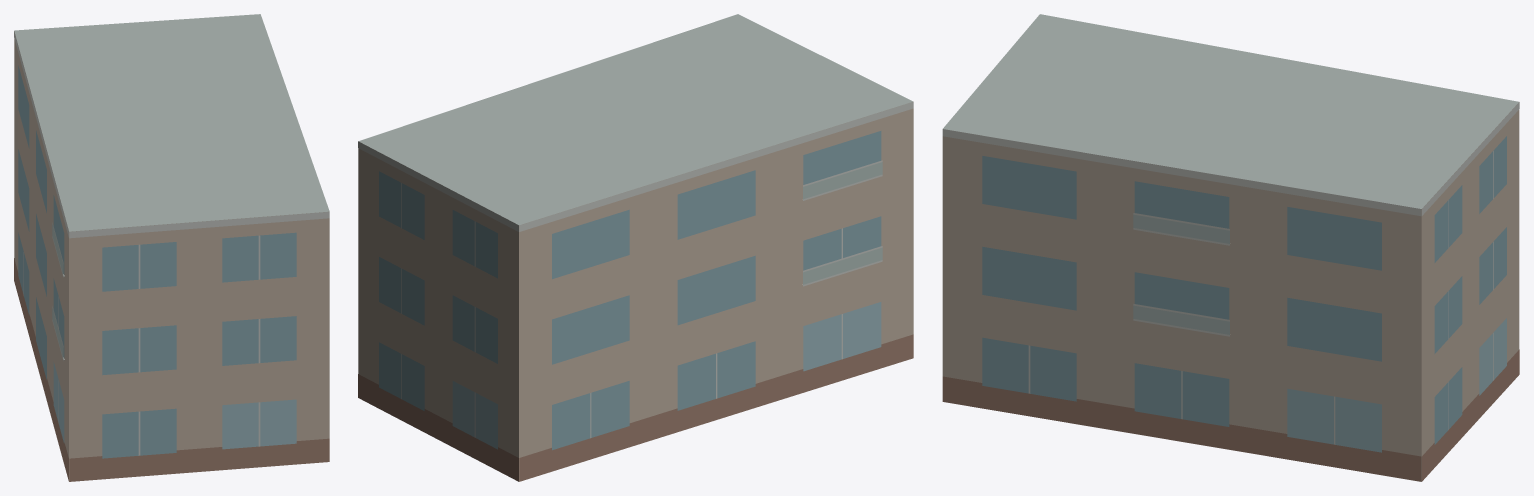
The model's file is survey-upis-32893045.glb.
3 views of the same model, side by side, from view 1: azimuth 30°, elevation 25°; view 2: azimuth 150°, elevation 25°; view 3: azimuth 270°, elevation 25° (orthographic). The views are drawn at different scales.
Visible parts, largest first — view 1: survey-upis-32893045.tmp; view 2: survey-upis-32893045.tmp; view 3: survey-upis-32893045.tmp.
Part boxes in pixels (x1,y1,x2,y2): survey-upis-32893045.tmp: (14, 14, 329, 481); survey-upis-32893045.tmp: (358, 14, 913, 481); survey-upis-32893045.tmp: (942, 14, 1519, 481).
Bounding box in the file's own units: 14.04 × 9.15 × 17.55.
